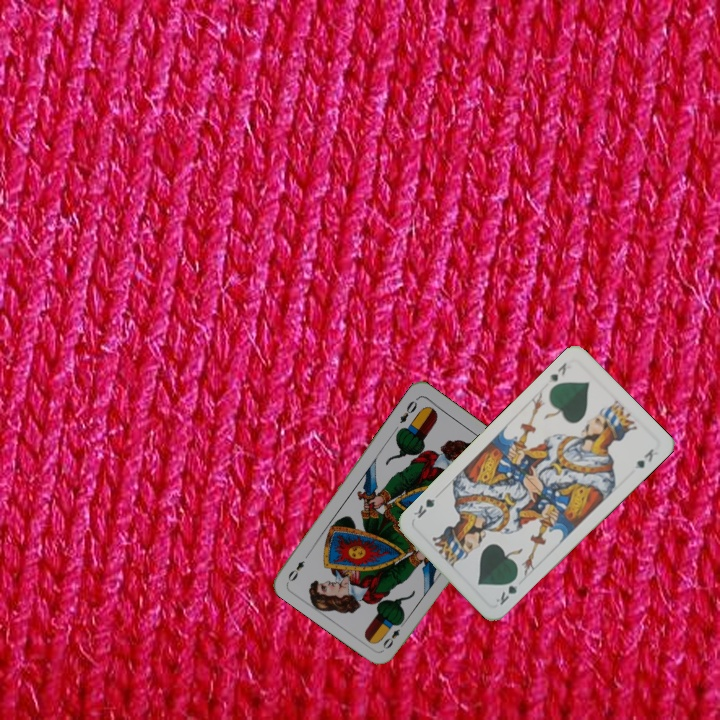EO: (379, 617, 407, 652), (395, 397, 420, 426)
GK: (492, 572, 520, 608), (545, 358, 569, 384)
